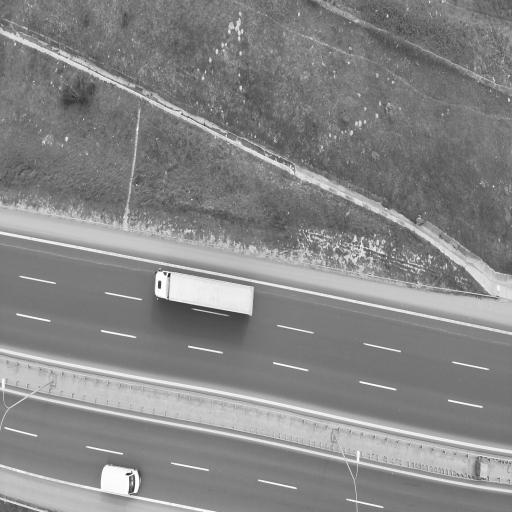car: (155, 269, 253, 315), (101, 465, 140, 495)
